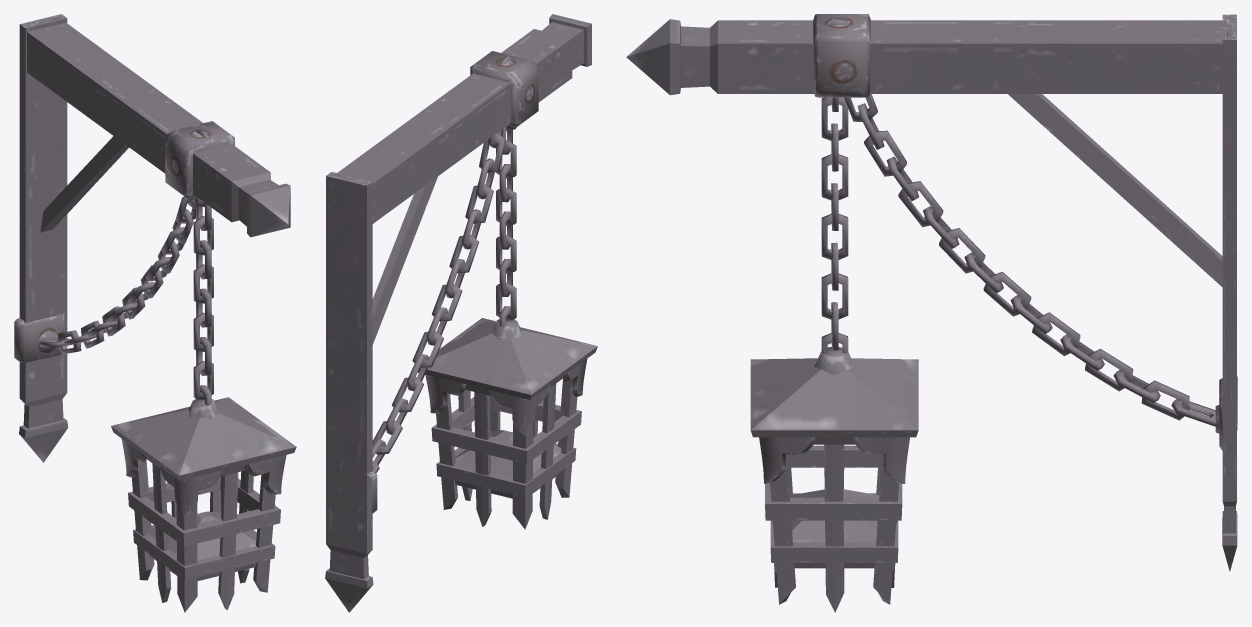
The model's file is Lantern_Wall.glb.
3 renders of one model, left to right at view 1: azimuth 30°, elevation 25°; view 2: azimuth 150°, elevation 25°; view 3: azimuth 270°, elevation 25°, orthographic. The views are drawn at different scales.
Visible parts, largest first — view 1: Lantern_Wall; view 2: Lantern_Wall; view 3: Lantern_Wall.
Boxes of the visible parts, x1,y1,x2,y2 form: Lantern_Wall: [14, 14, 296, 612]; Lantern_Wall: [325, 14, 597, 612]; Lantern_Wall: [626, 14, 1237, 612].
Bounding box in the file's own units: 0.3573 × 1.34 × 1.3.
1 material, 1 textured.
